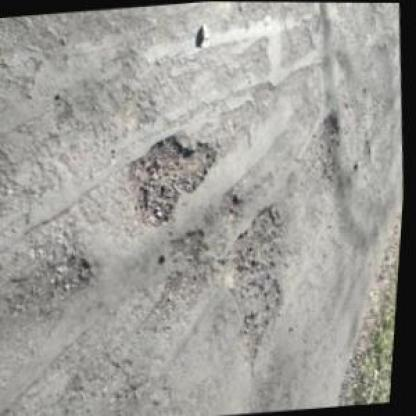pothole: (119, 126, 226, 233), (221, 200, 298, 300), (10, 252, 98, 316), (234, 279, 294, 369), (156, 226, 214, 308), (304, 108, 345, 166), (220, 190, 247, 230)
